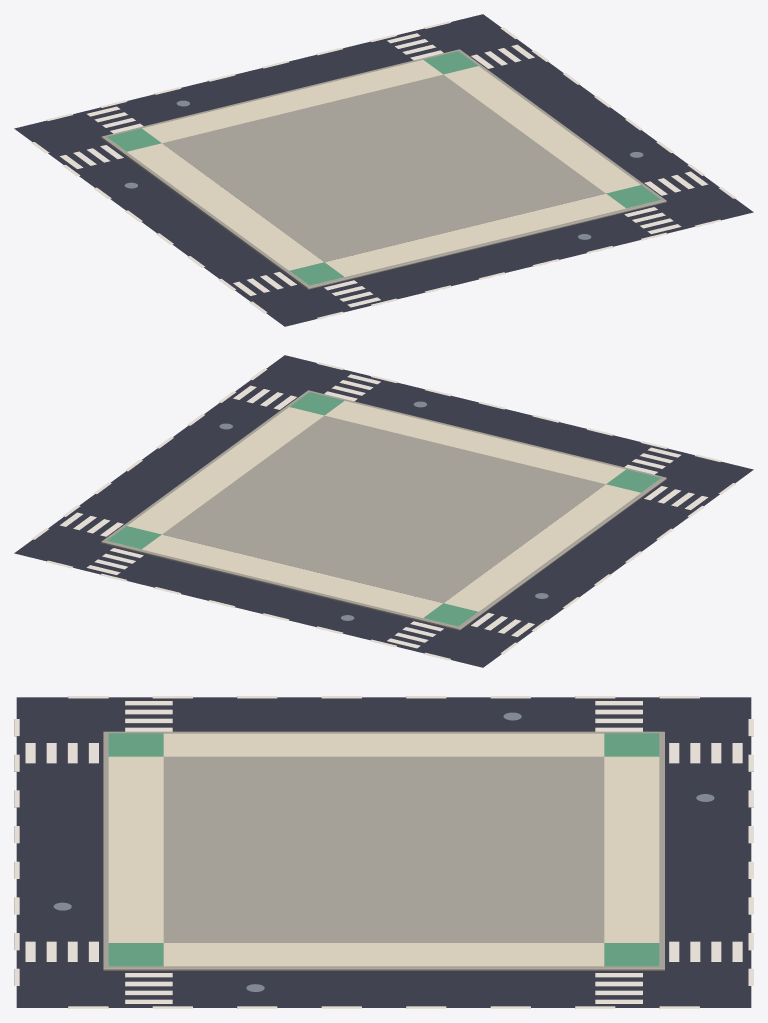
Rendered from tile_lot.glb.
The picture shows the model from 3 angles, top to bottom: view 1: azimuth 30°, elevation 25°; view 2: azimuth 150°, elevation 25°; view 3: azimuth 270°, elevation 25°; orthographic projection. The views are drawn at different scales.
Visible parts, largest first — view 1: tile_lot; view 2: tile_lot; view 3: tile_lot.
Part boxes in pixels (<box>): tile_lot: <box>14,14,753,326</box>; tile_lot: <box>14,355,753,667</box>; tile_lot: <box>14,696,753,1008</box>.
Bounding box in the file's own units: 40.3 × 0.1722 × 40.3.
Materials: 1 (1 with a texture image).
